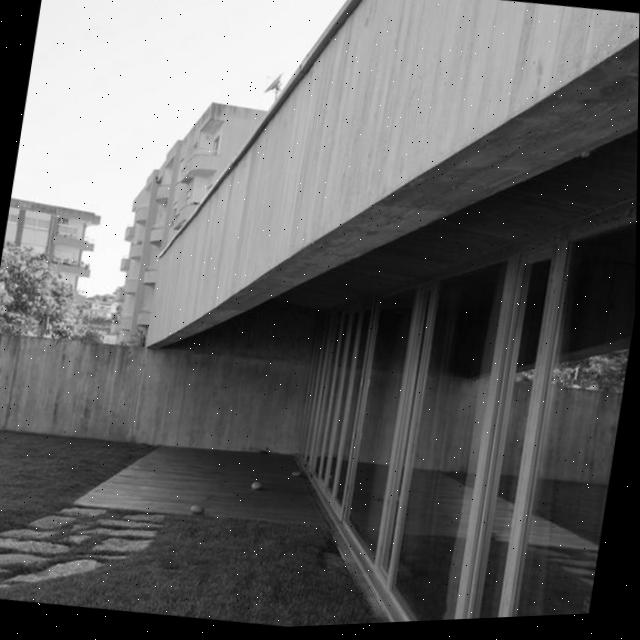building: (102, 0, 640, 635), (110, 89, 269, 357), (0, 191, 102, 322)
